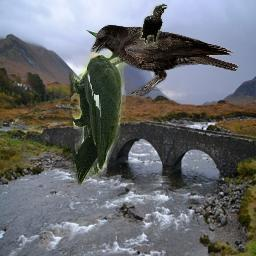Crow: (88, 24, 239, 97), (140, 3, 168, 49)
Woodpecker: (69, 30, 148, 185)
